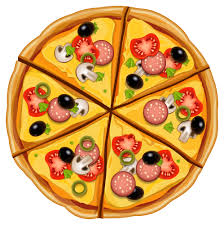pizza: (9, 7, 217, 216)
